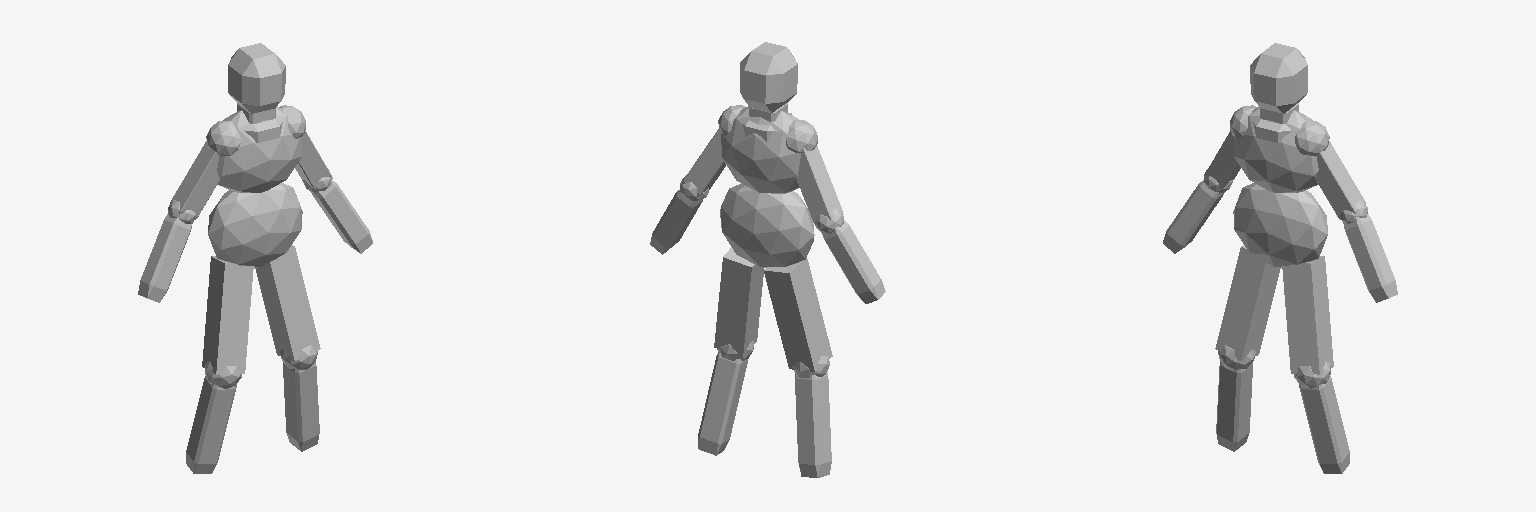
The model's file is Robots and Humanoids.obj.
The picture shows the model from 3 angles: view 1: azimuth 30°, elevation 25°; view 2: azimuth 150°, elevation 25°; view 3: azimuth 330°, elevation 25°; orthographic projection.
Size of the model in its own units: 2.12 by 3.66 by 0.4798.